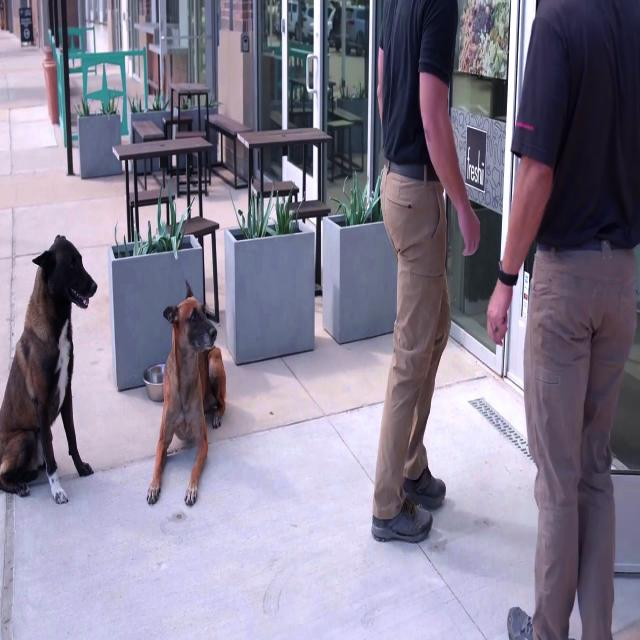Unleashed_Dog: (0, 157, 424, 506), (146, 162, 424, 508)
